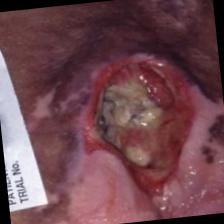pressure-wound: (75, 39, 210, 213)
